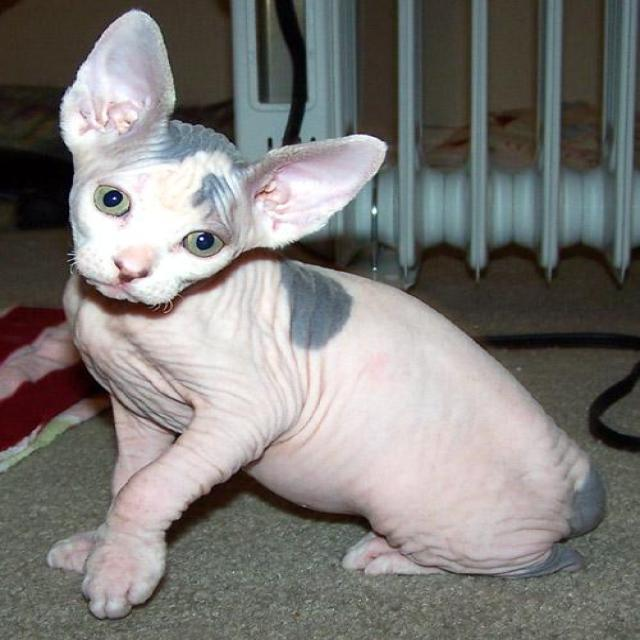Sphynx: (53, 3, 391, 319)
